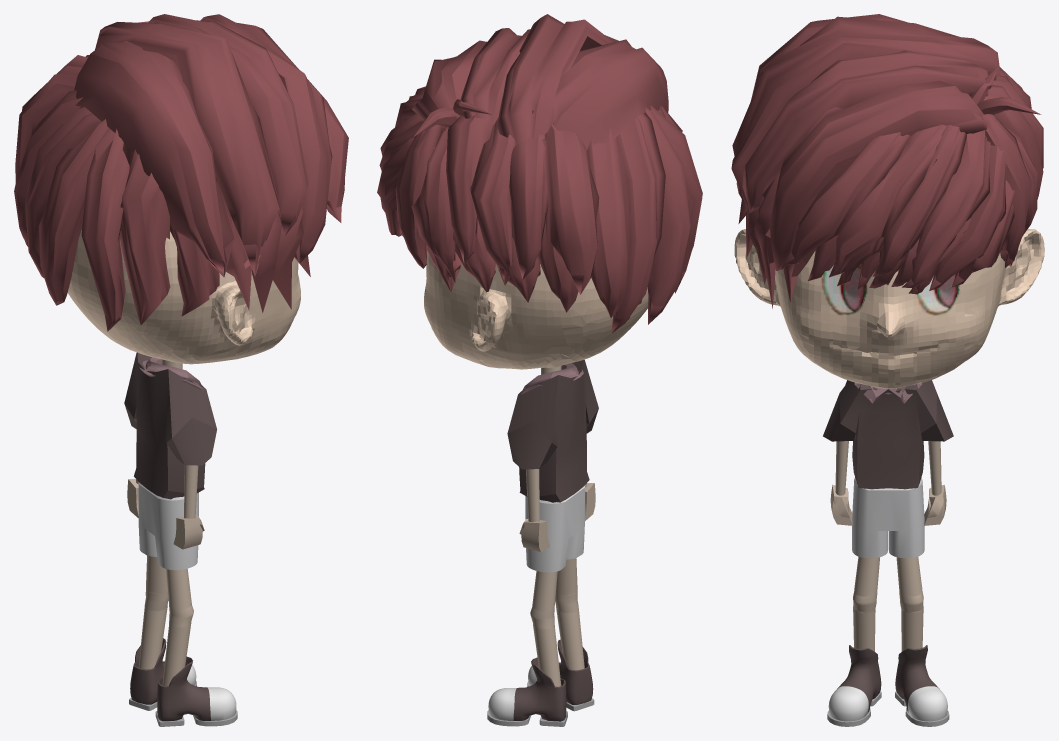
Rendered from Boy Model FBX.fbx.
The picture shows the model from 3 angles, left to right: view 1: azimuth 30°, elevation 25°; view 2: azimuth 150°, elevation 25°; view 3: azimuth 270°, elevation 25°; orthographic projection.
Parts seen in each view (by area): view 1: pasted__polySurface202; view 2: pasted__polySurface202; view 3: pasted__polySurface202.
Part boxes in pixels (<box>): pasted__polySurface202: <box>14,14,348,726</box>; pasted__polySurface202: <box>377,14,702,726</box>; pasted__polySurface202: <box>731,14,1044,726</box>.
Bounding box in the file's own units: 2.14 × 4.93 × 2.04.
9 materials, 2 textured.
